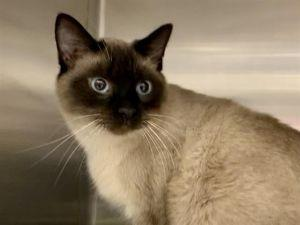siamese: (46, 3, 182, 152)
